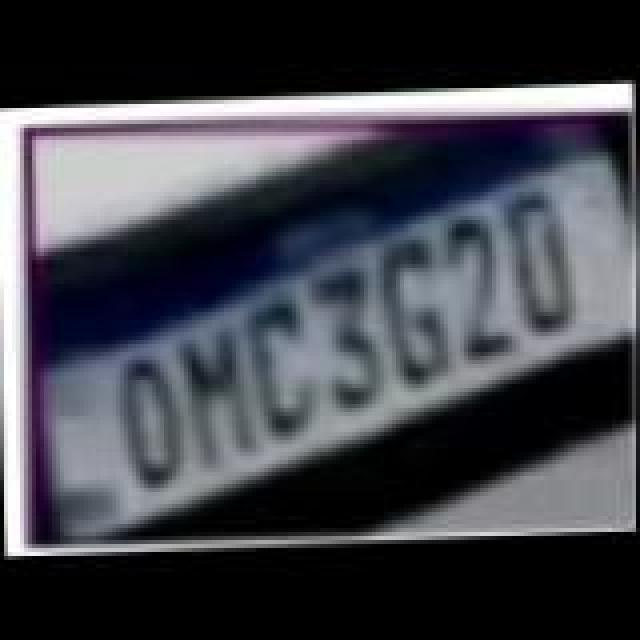2: (438, 212, 518, 364)
3: (310, 266, 390, 414)
C: (244, 298, 324, 446)
D: (500, 184, 580, 336)
G: (376, 242, 460, 394)
M: (178, 328, 262, 468)
O: (112, 356, 188, 496)
